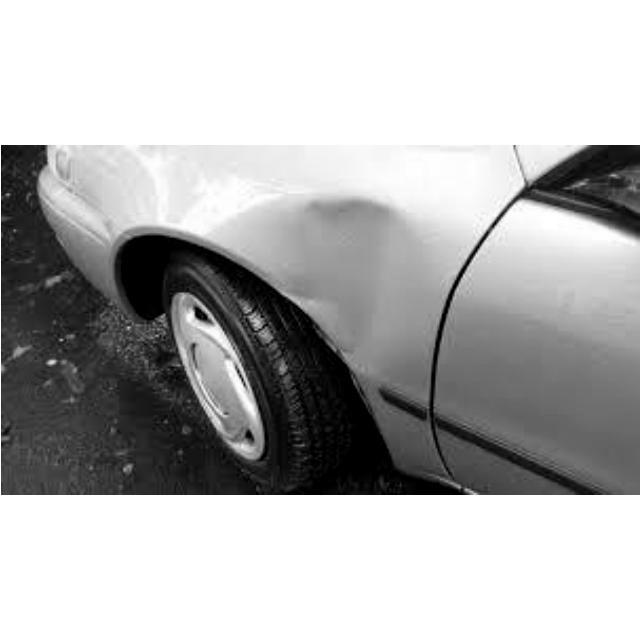fender-dent: (66, 152, 444, 325)
